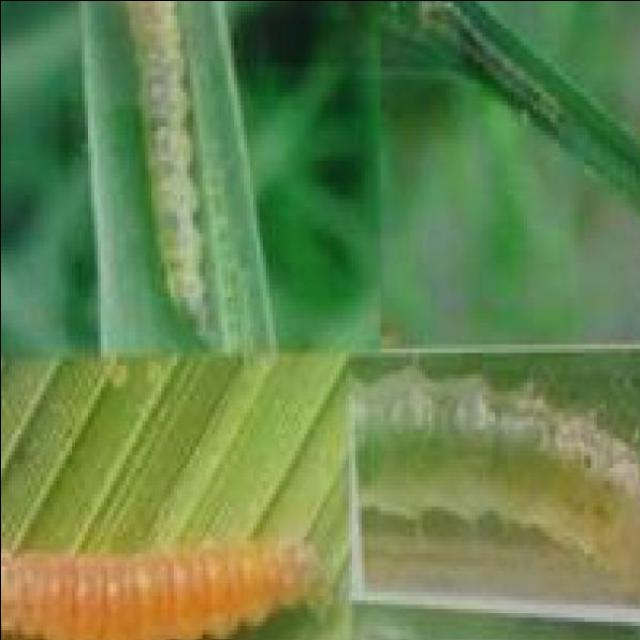leaf folder: (357, 370, 640, 602), (0, 551, 302, 640), (122, 0, 202, 319), (419, 0, 580, 144)
